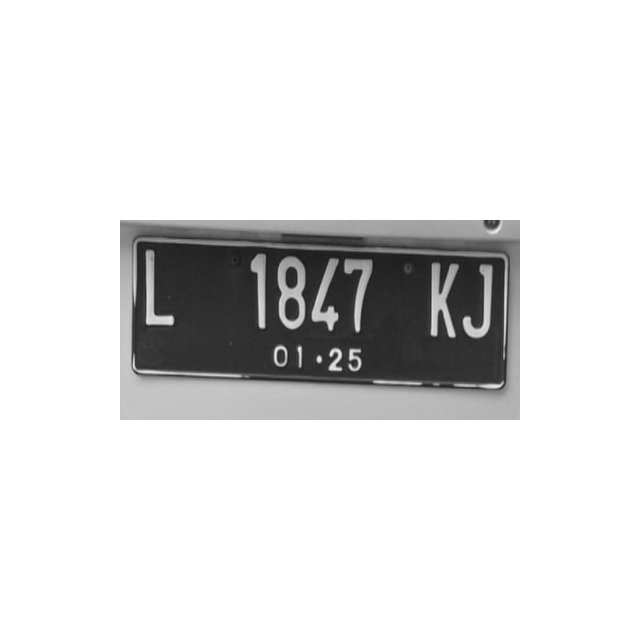contain: (141, 242, 178, 328), (234, 249, 271, 331), (274, 252, 309, 334), (426, 257, 460, 340), (462, 260, 496, 341), (310, 252, 341, 335), (345, 253, 376, 334)
